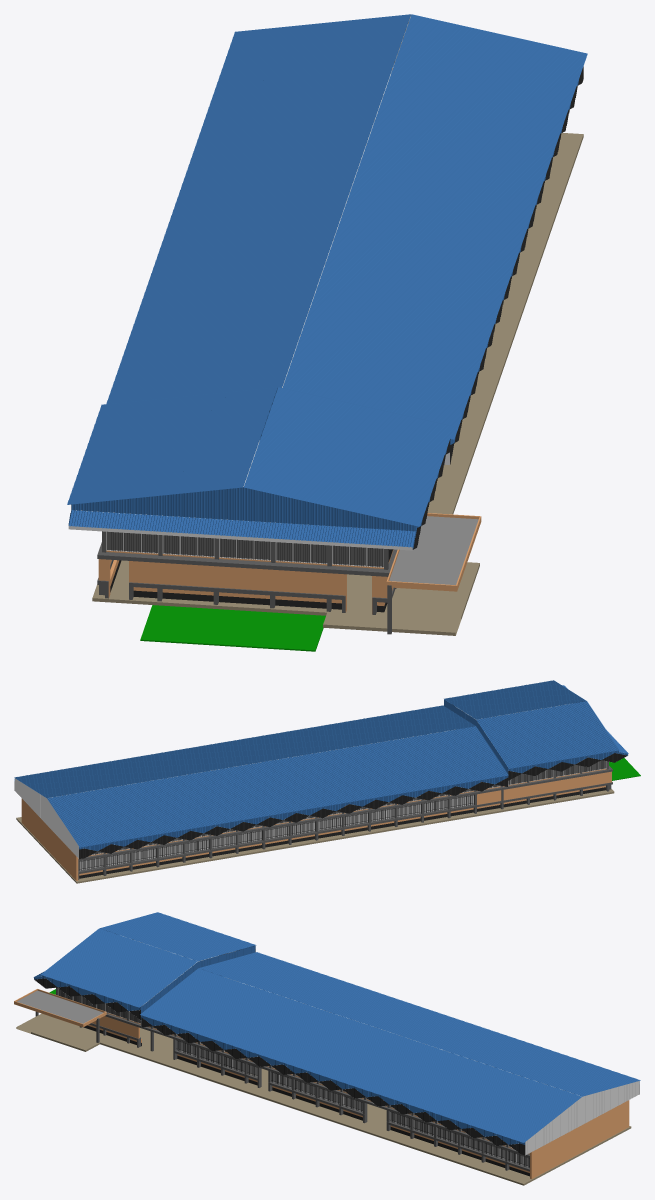
The model's file is Block_D.fbx.
3 views of the same model, one above another, from view 1: azimuth 30°, elevation 25°; view 2: azimuth 150°, elevation 25°; view 3: azimuth 270°, elevation 25° (orthographic). The views are drawn at different scales.
Visible parts, largest first — view 1: Plane.003, Plane.005, Cube.082, Plane.007, Cube.111, Plane.013, Cube.079, Cube.080, Cube.084, Cube.071, Cube.081, Plane.014 (+3 smaller); view 2: Plane.003, Plane.005, Cube.071, Cube.078, Cube.082, Cube.075, Plane.004, Cube.080, Cube.079, Cube.072, Plane.001, Plane.009 (+2 smaller); view 3: Plane.003, Plane.005, Cube.082, Cube.071, Cube.078, Cube.072, Plane.001, Plane.006, Cube.084, Cube.083, Plane.012, Cube.079 (+2 smaller).
Boxes of the visible parts, bbox=[...] form: Plane.003: bbox=[106, 14, 587, 444]; Plane.005: bbox=[67, 387, 454, 548]; Cube.082: bbox=[92, 133, 583, 635]; Plane.007: bbox=[71, 487, 415, 531]; Cube.111: bbox=[140, 605, 325, 651]; Plane.013: bbox=[68, 510, 415, 547]; Cube.079: bbox=[106, 531, 393, 568]; Cube.080: bbox=[98, 559, 392, 613]; Cube.084: bbox=[386, 513, 481, 591]; Cube.071: bbox=[97, 542, 397, 614]; Cube.081: bbox=[133, 587, 341, 609]; Plane.014: bbox=[68, 526, 412, 550]; Plane.003: bbox=[14, 705, 508, 850]; Plane.005: bbox=[444, 680, 627, 773]; Cube.071: bbox=[78, 765, 612, 875]; Cube.078: bbox=[79, 795, 474, 870]; Cube.082: bbox=[16, 789, 614, 883]; Cube.075: bbox=[79, 785, 605, 878]; Plane.004: bbox=[79, 777, 508, 859]; Cube.080: bbox=[477, 771, 611, 804]; Cube.079: bbox=[83, 760, 606, 856]; Cube.072: bbox=[21, 798, 78, 880]; Plane.001: bbox=[15, 778, 78, 858]; Plane.009: bbox=[508, 753, 627, 780]; Plane.003: bbox=[140, 952, 640, 1144]; Plane.005: bbox=[34, 912, 256, 1010]; Cube.082: bbox=[16, 1013, 631, 1185]; Cube.071: bbox=[55, 954, 529, 1171]; Cube.078: bbox=[176, 1040, 529, 1168]; Cube.072: bbox=[530, 1100, 629, 1179]; Plane.001: bbox=[525, 1081, 639, 1155]; Plane.006: bbox=[141, 1017, 525, 1155]; Cube.084: bbox=[14, 989, 106, 1027]; Cube.083: bbox=[83, 1024, 529, 1176]; Plane.012: bbox=[141, 946, 255, 1019]; Cube.079: bbox=[58, 953, 529, 1154].
Size of the model in its own units: 6606 by 913 by 7740.
